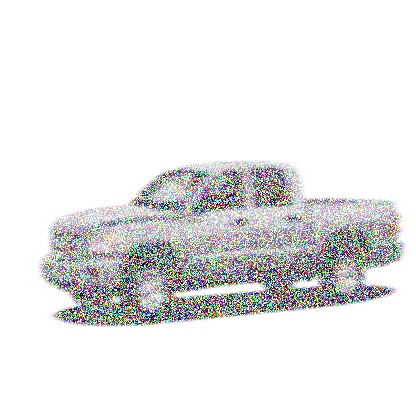Vehicle: (39, 159, 402, 324)
